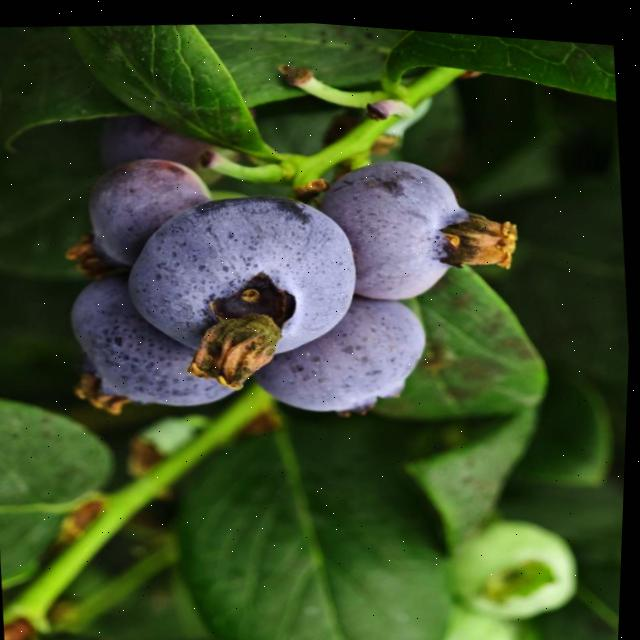RipeBlueBerry: (115, 172, 371, 376), (316, 142, 491, 306)
